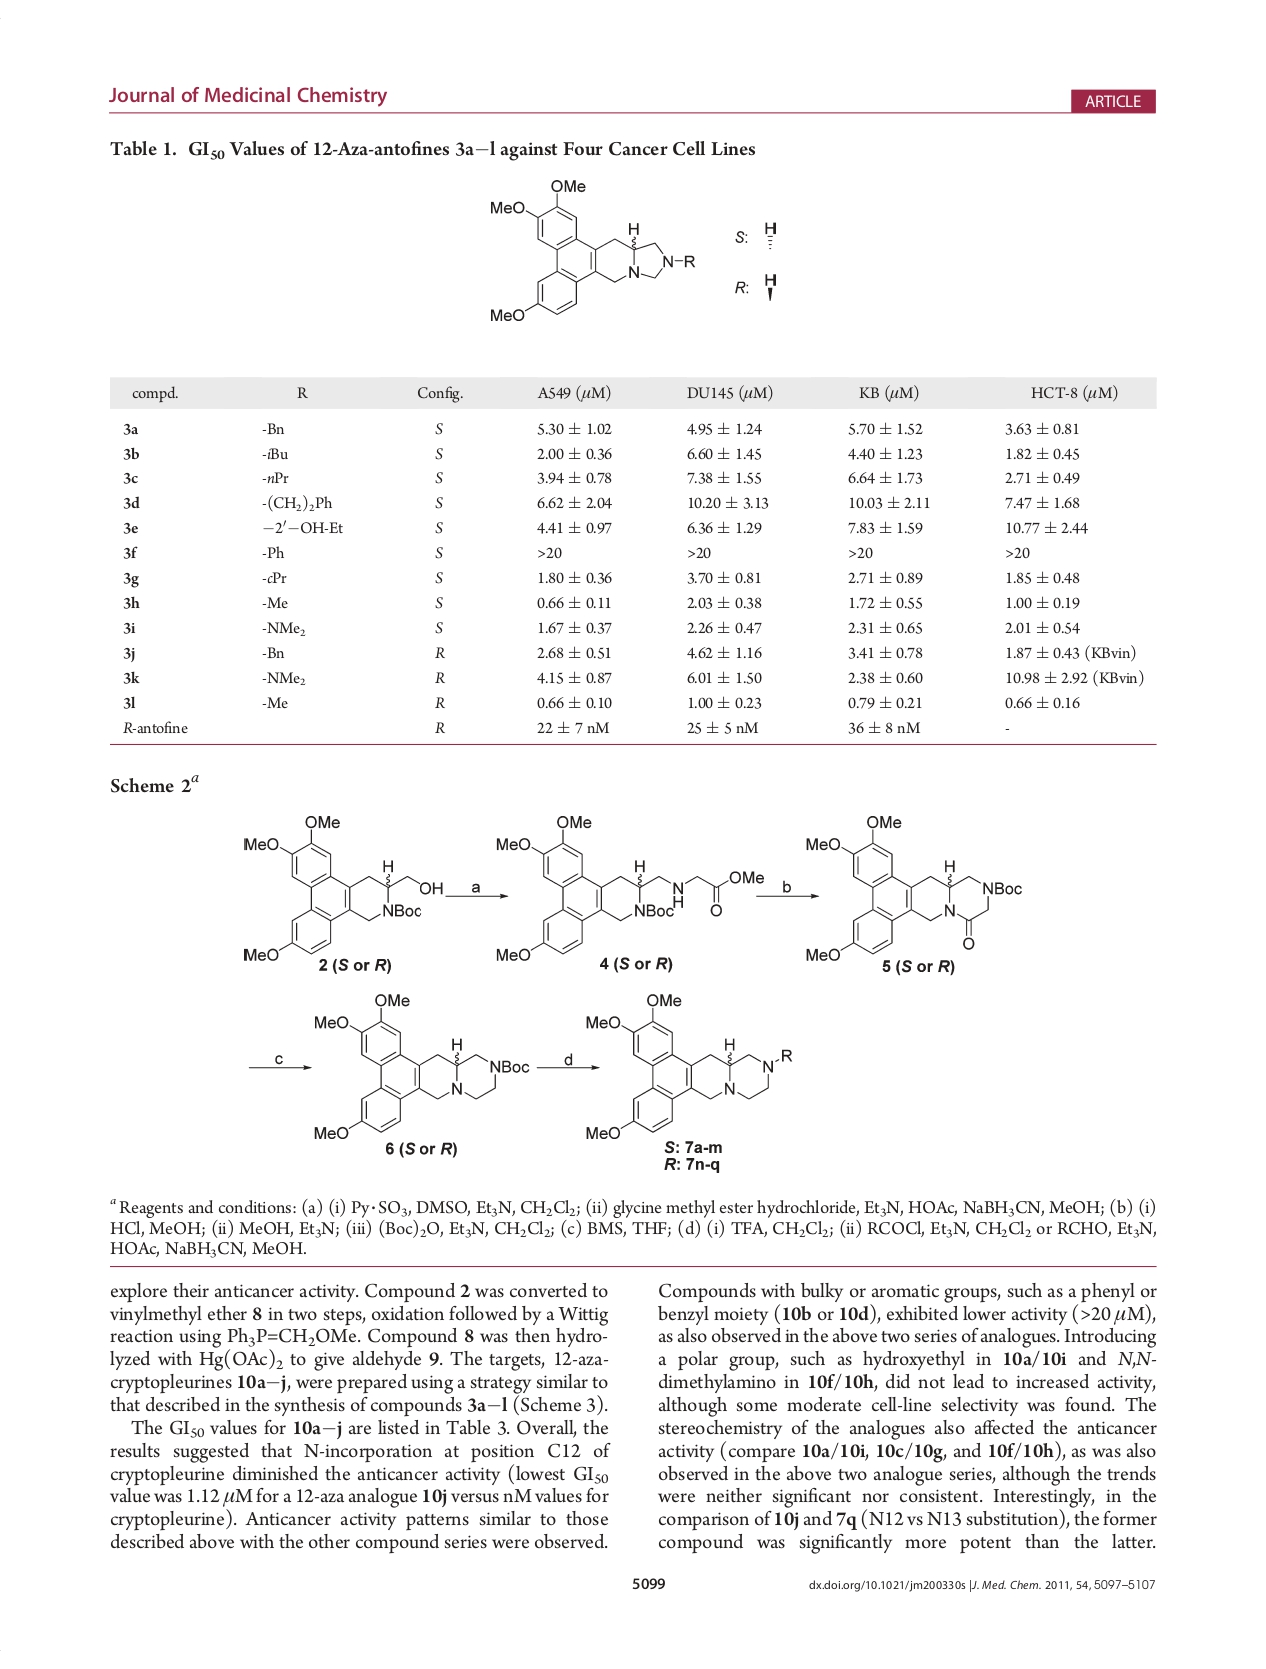exist_molecular: (493, 813, 765, 962), (805, 814, 1024, 963), (485, 173, 698, 326), (313, 993, 532, 1141), (584, 989, 797, 1141), (241, 811, 445, 963)
